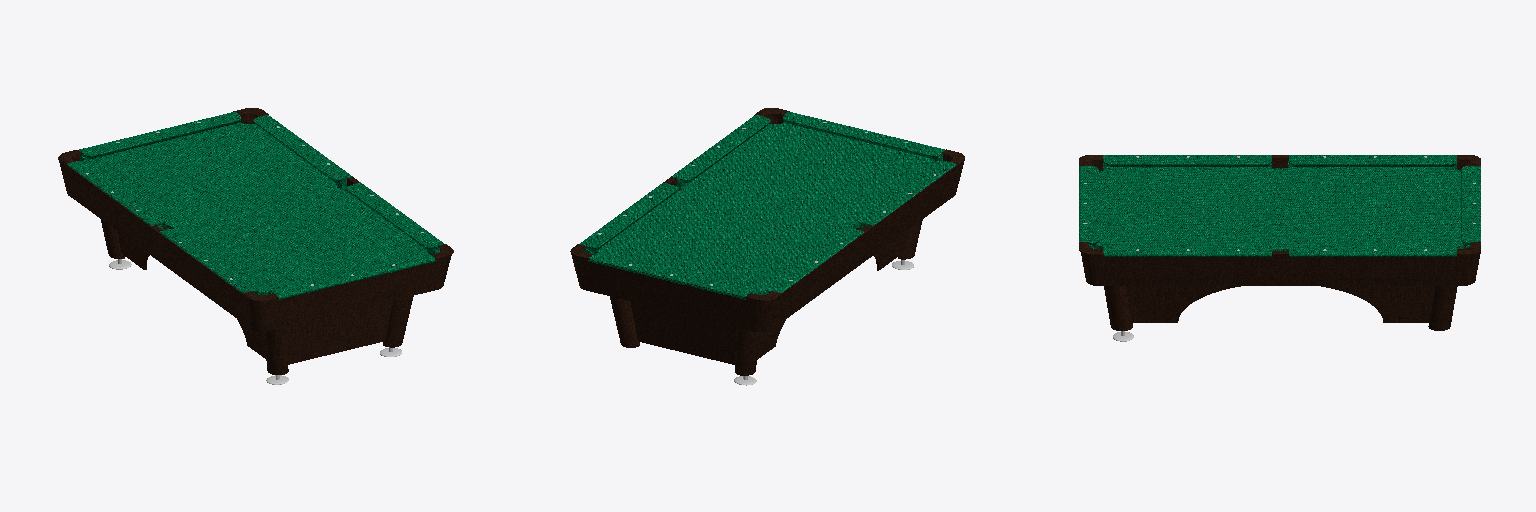
The picture shows the model from 3 angles: view 1: azimuth 30°, elevation 25°; view 2: azimuth 150°, elevation 25°; view 3: azimuth 270°, elevation 25°; orthographic projection.
Parts seen in each view (by area): view 1: Table1, Rectangle7, Rectangle10, Circle4, Rectangle8, Rectangle12, Object17; view 2: Table1, Rectangle7, Rectangle11, Circle4, Rectangle8, Rectangle12, Object17; view 3: Table1, Rectangle7, Rectangle9, Circle4, Rectangle12, Object17.
Part boxes in pixels (bbox=[...]): Table1: bbox=[67, 112, 443, 299]; Rectangle7: bbox=[58, 114, 444, 330]; Rectangle10: bbox=[287, 301, 392, 364]; Circle4: bbox=[101, 219, 413, 374]; Rectangle8: bbox=[117, 231, 265, 358]; Rectangle12: bbox=[58, 115, 451, 331]; Object17: bbox=[59, 108, 453, 258]; Table1: bbox=[580, 112, 956, 299]; Rectangle7: bbox=[578, 113, 962, 330]; Rectangle11: bbox=[630, 301, 736, 364]; Circle4: bbox=[610, 219, 922, 375]; Rectangle8: bbox=[757, 232, 905, 359]; Rectangle12: bbox=[571, 116, 964, 331]; Object17: bbox=[570, 108, 789, 300]; Table1: bbox=[1079, 155, 1480, 256]; Rectangle7: bbox=[1092, 155, 1469, 285]; Rectangle9: bbox=[1126, 286, 1434, 322]; Circle4: bbox=[1104, 286, 1457, 330]; Rectangle12: bbox=[1081, 161, 1480, 285]; Object17: bbox=[1079, 155, 1480, 254].
Size of the model in its own units: 1.76 by 0.8793 by 3.02.
6 materials, 3 textured.